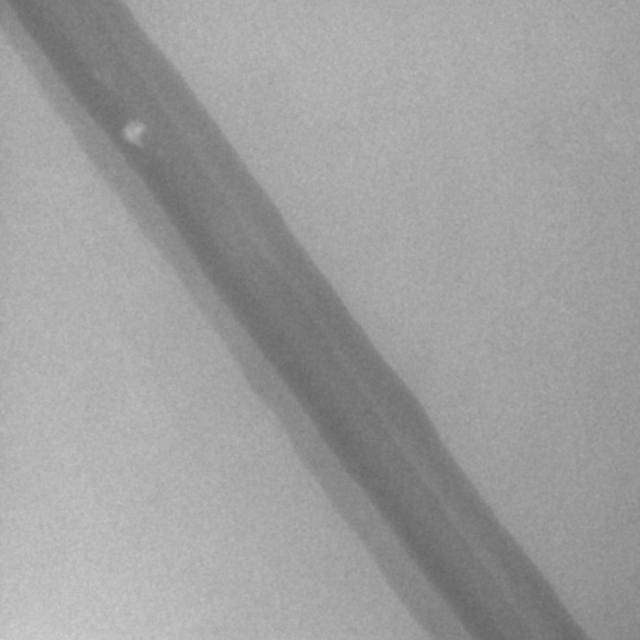slag inclusion: (123, 123, 144, 148)
